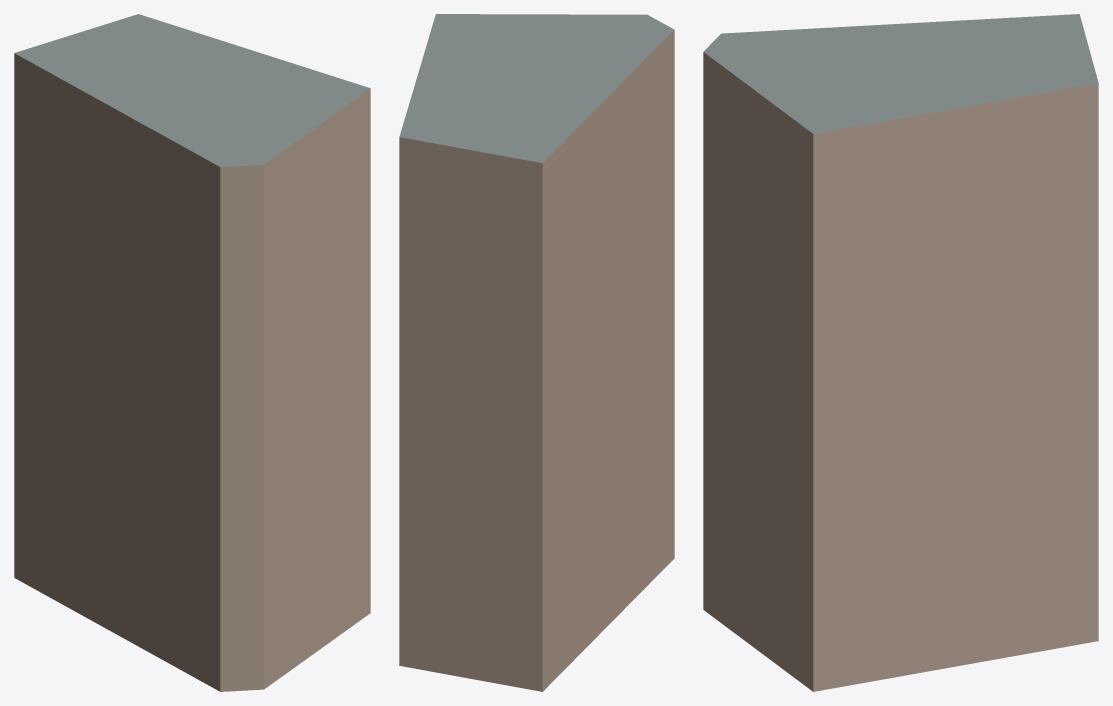
File: sample-building.gltf
The picture shows the model from 3 angles, left to right: view 1: azimuth 30°, elevation 25°; view 2: azimuth 150°, elevation 25°; view 3: azimuth 270°, elevation 25°; orthographic projection. The views are drawn at different scales.
Parts seen in each view (by area): view 1: sample-building; view 2: sample-building; view 3: sample-building.
Boxes of the visible parts, bbox=[...] form: sample-building: bbox=[14, 14, 370, 691]; sample-building: bbox=[399, 14, 674, 691]; sample-building: bbox=[703, 14, 1098, 691].
Size of the model in its own units: 21.98 by 47.65 by 30.6.
